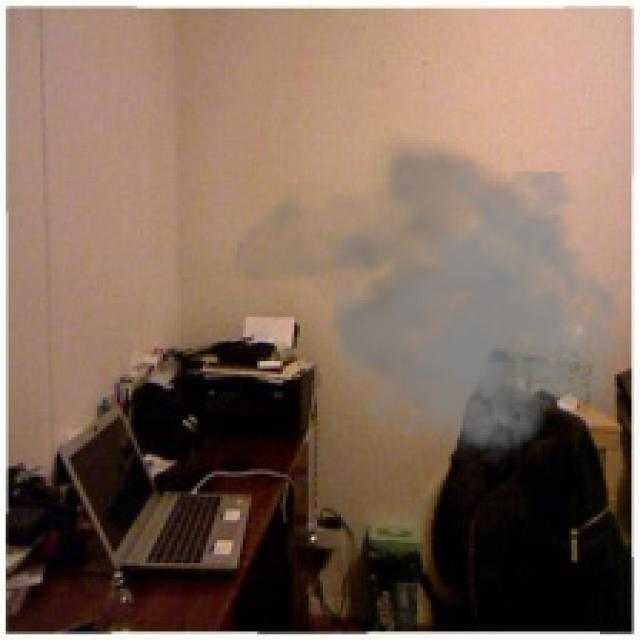Smoke: (226, 128, 632, 474)
